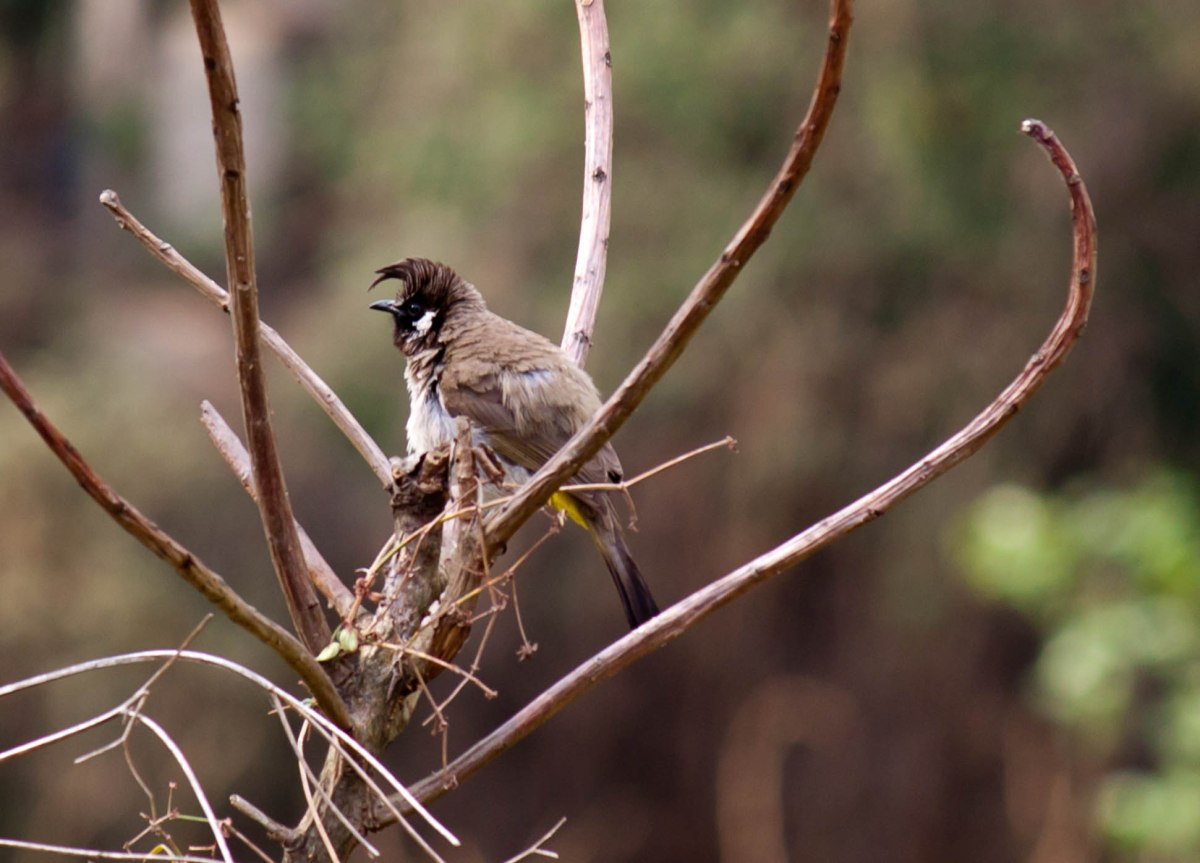bird: (340, 237, 696, 635)
